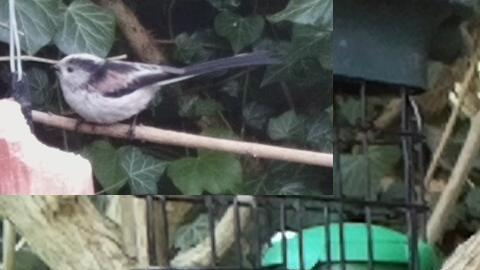long tailed tit: (50, 50, 283, 141)
